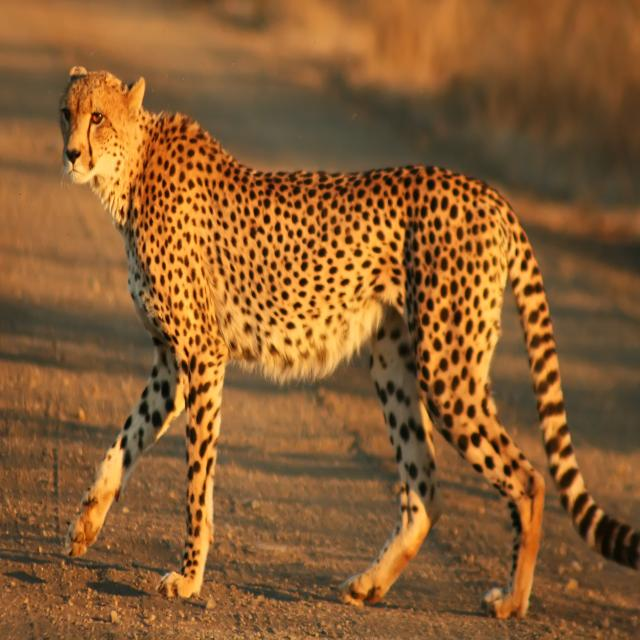Cheetah: (46, 48, 640, 624)
